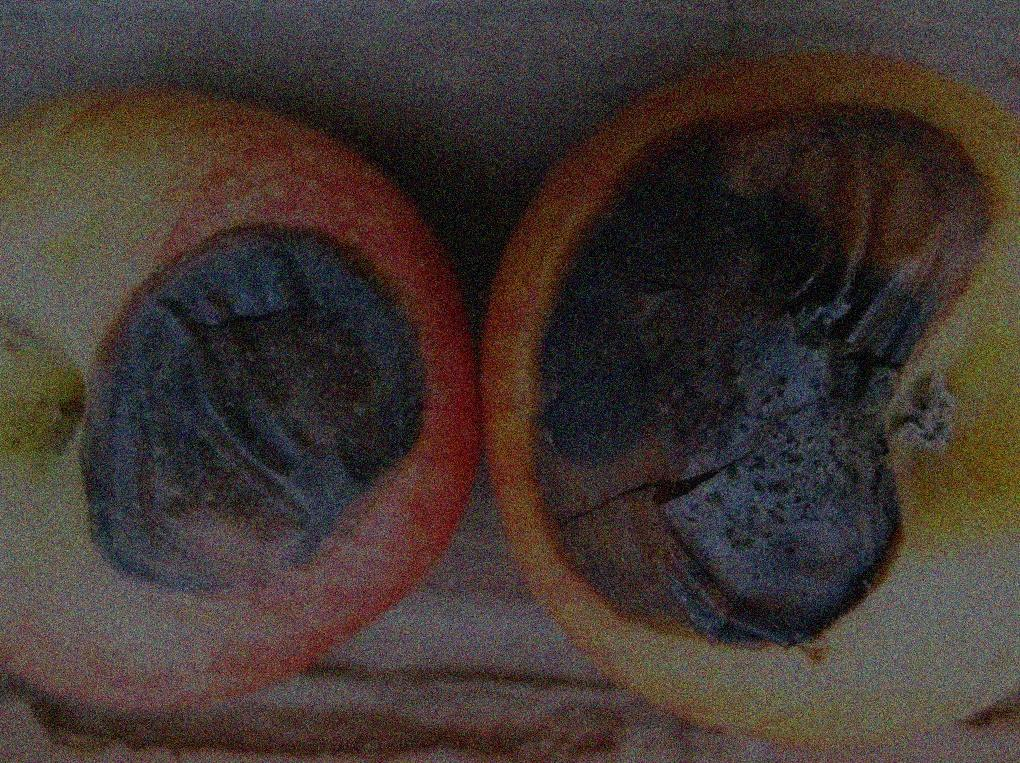rotten apple: (468, 52, 1020, 752), (3, 71, 472, 716)
